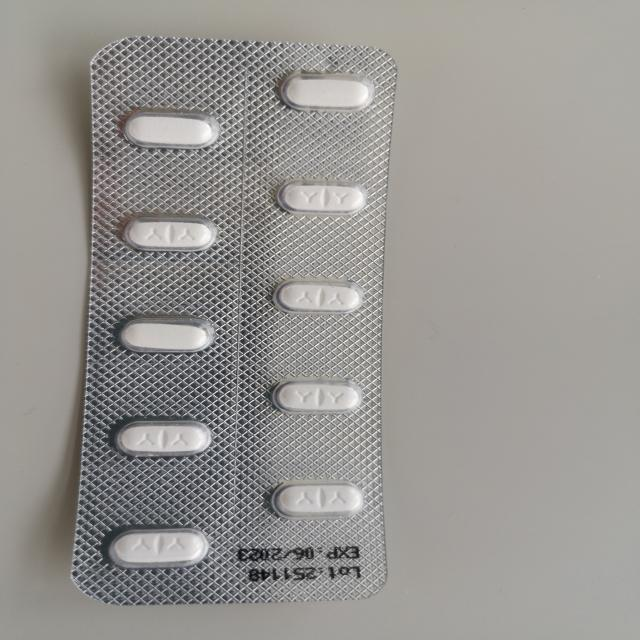Pill: (98, 523, 215, 572), (107, 310, 221, 359), (274, 66, 382, 116), (104, 414, 217, 461), (114, 210, 224, 258), (116, 107, 226, 154), (264, 374, 368, 420), (267, 277, 372, 322), (270, 177, 372, 221), (262, 478, 367, 520)
